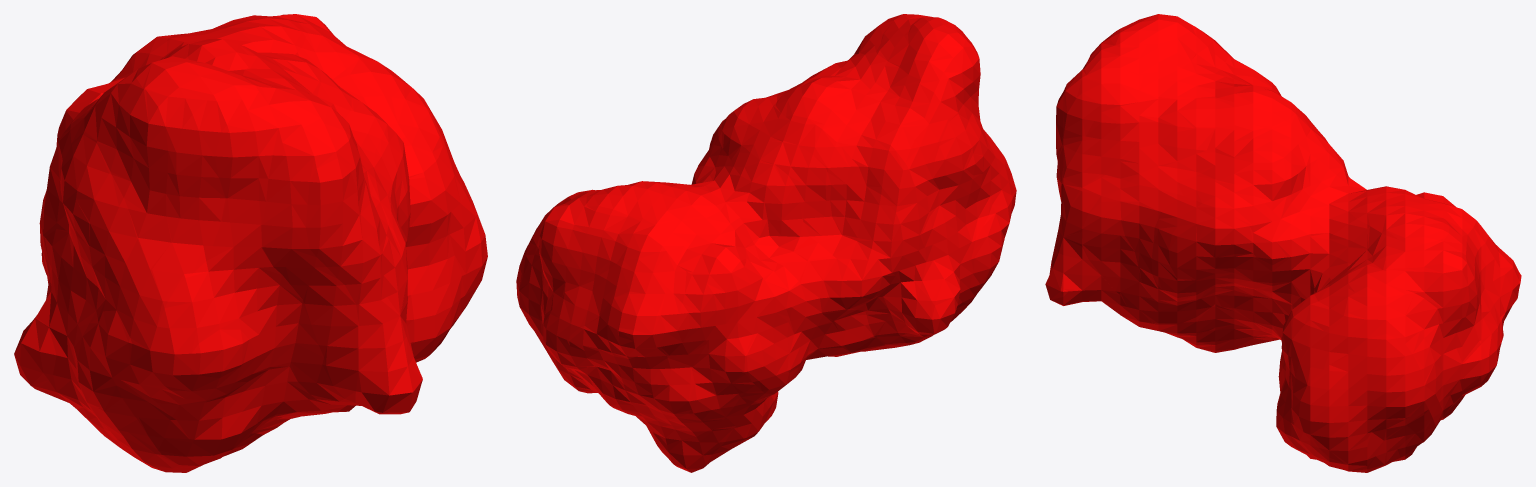
The model's file is trpC_coarse.dae.
The picture shows the model from 3 angles, left to right: view 1: azimuth 30°, elevation 25°; view 2: azimuth 150°, elevation 25°; view 3: azimuth 270°, elevation 25°; orthographic projection. The views are drawn at different scales.
Visible parts, largest first — view 1: trpC; view 2: trpC; view 3: trpC.
Part boxes in pixels (box(x1,y1,x2,y2)): trpC: box(14, 14, 487, 472); trpC: box(516, 14, 1016, 472); trpC: box(1045, 14, 1521, 472).
Bounding box in the file's own units: 64.95 × 65.18 × 74.28.
